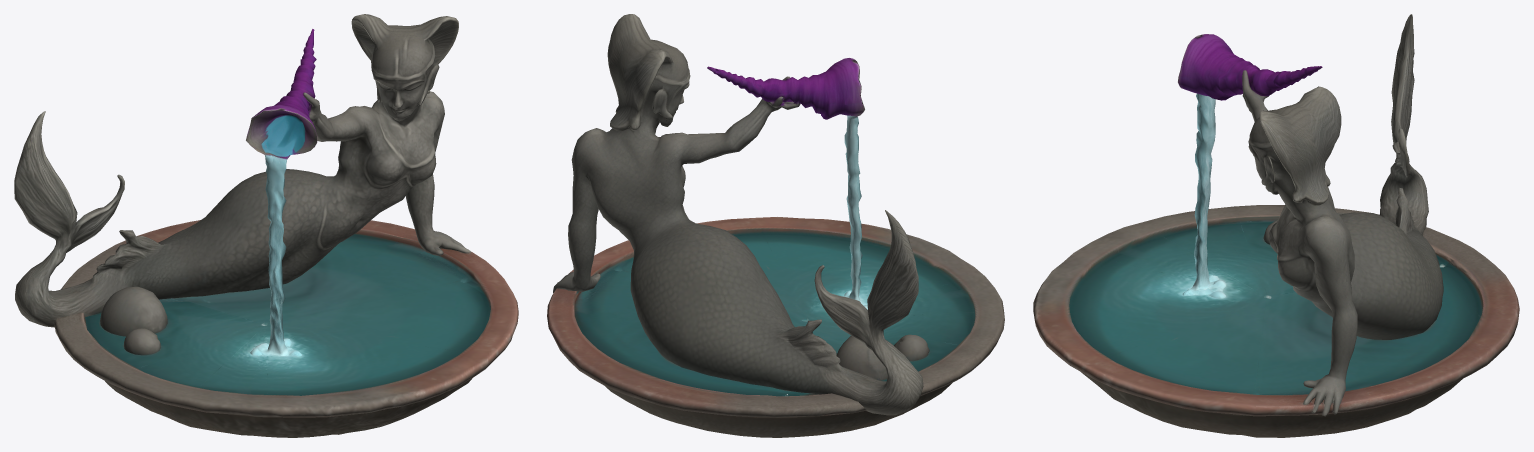
Rendered from Mermaid_Fountain.glb.
3 views of the same model, side by side, from view 1: azimuth 30°, elevation 25°; view 2: azimuth 150°, elevation 25°; view 3: azimuth 270°, elevation 25° (orthographic). The views are drawn at different scales.
Bounding box in the file's own units: 0.9517 × 0.7681 × 0.9419.
1 material, 1 textured.
